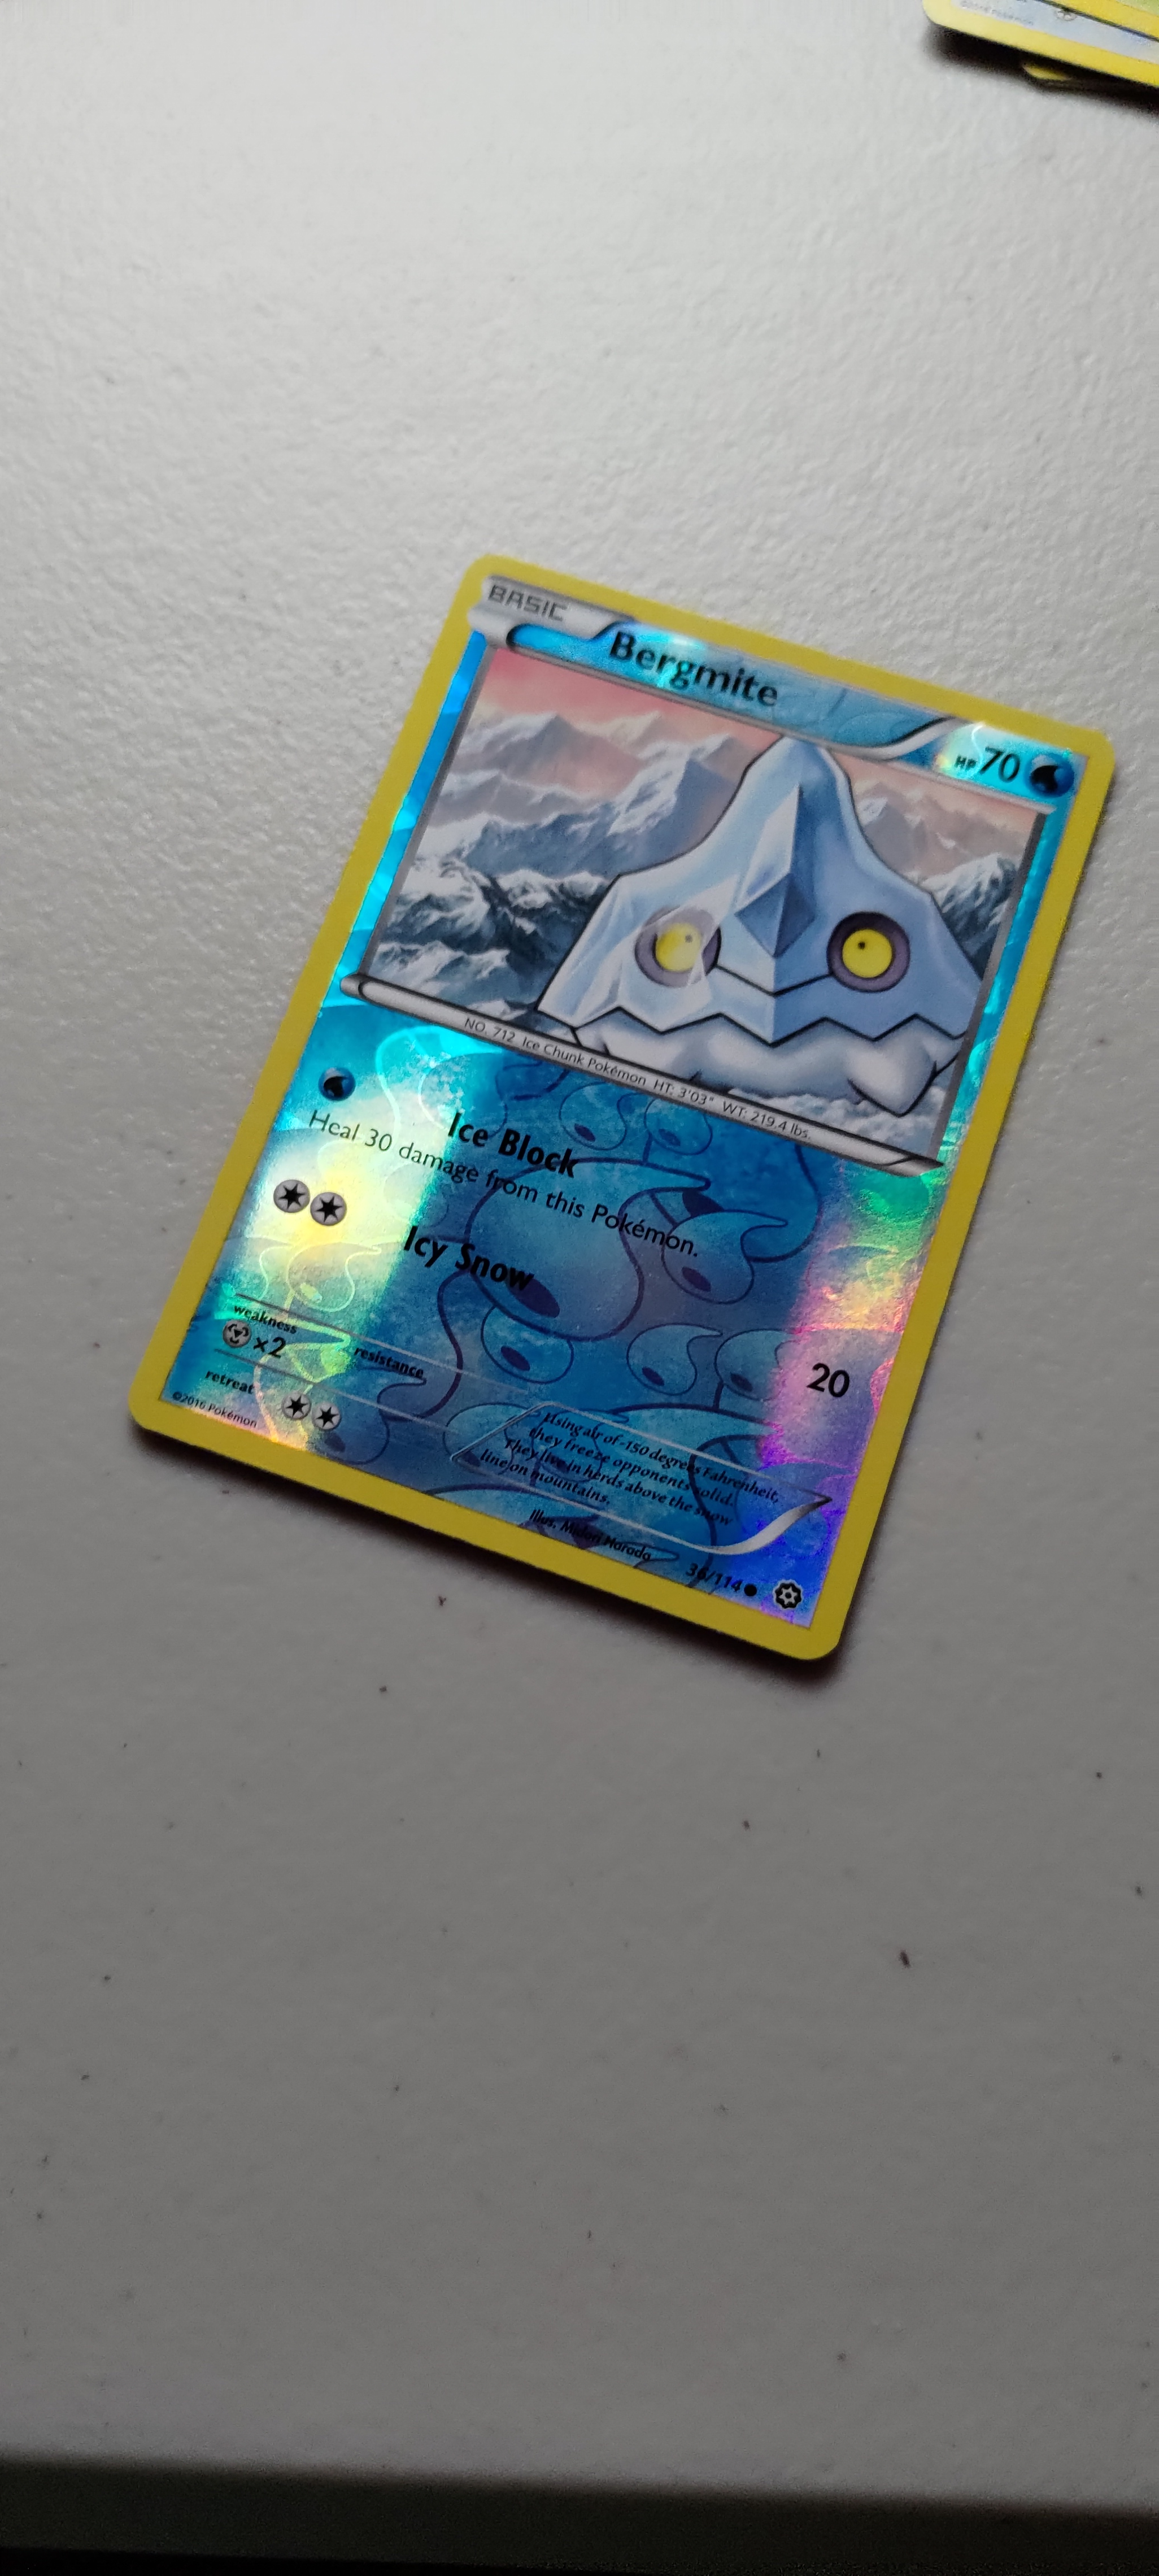pokemon_card: (433, 485, 1159, 1518)
